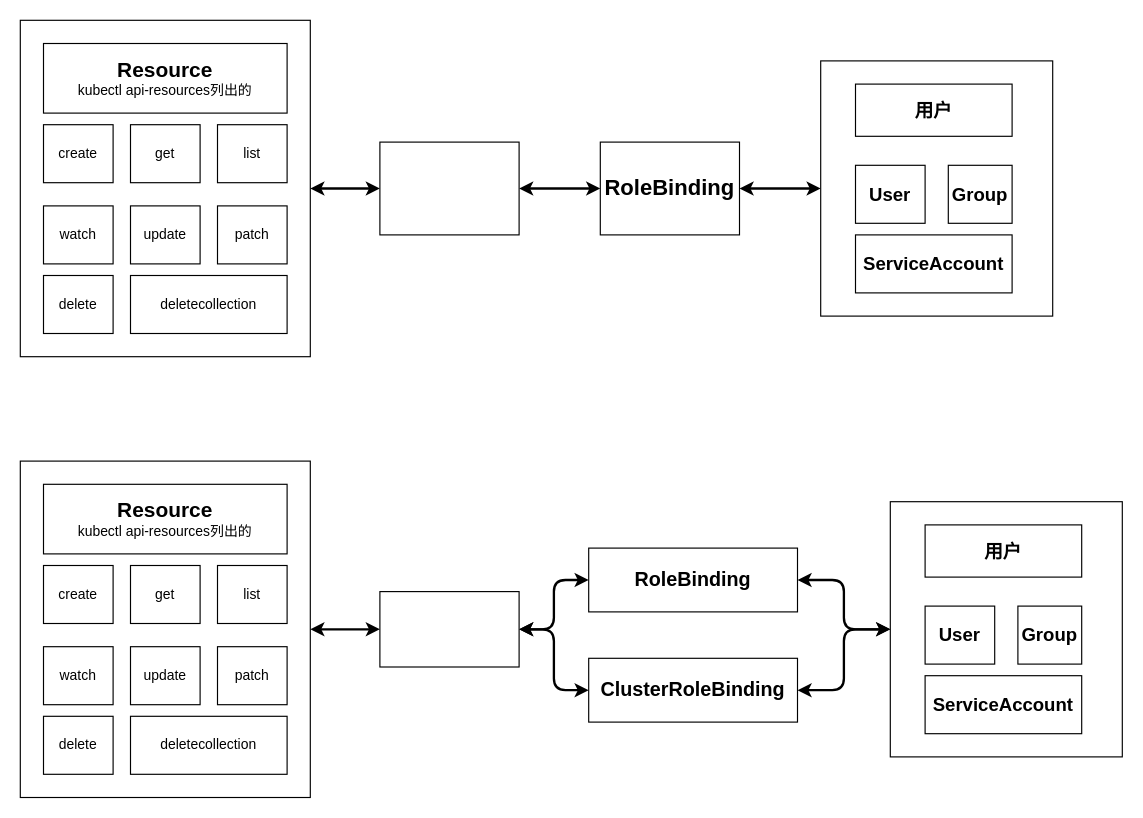
Image size: 1143x818. Some labels were removed from this diagram. Each missing label, with the centre of its shape:
ClusterRole: pixel 449 628
Role: pixel 449 188
